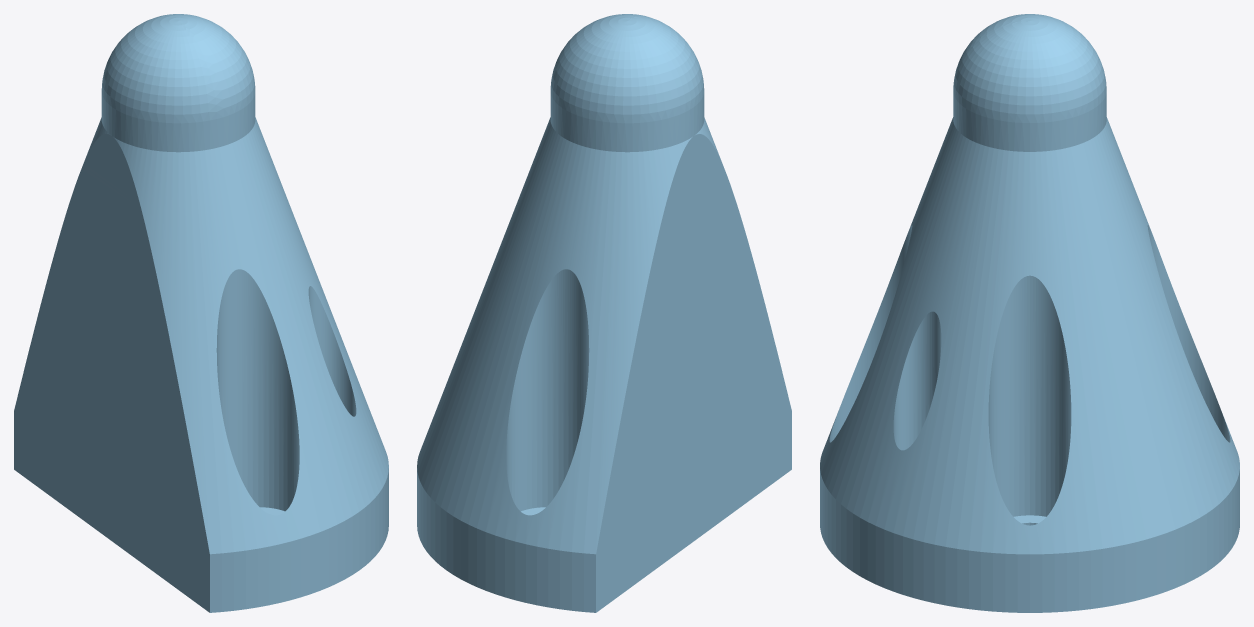
Rendered from ball_joint_gripper.dae.
The picture shows the model from 3 angles, left to right: view 1: azimuth 30°, elevation 25°; view 2: azimuth 150°, elevation 25°; view 3: azimuth 270°, elevation 25°; orthographic projection.
Parts seen in each view (by area): view 1: ID2; view 2: ID2; view 3: ID2.
Boxes of the visible parts, x1,y1,x2,y2 form: ID2: (14, 14, 388, 612); ID2: (417, 14, 791, 612); ID2: (820, 14, 1239, 612).
Size of the model in its own units: 0.0451 by 0.066 by 0.0872.
